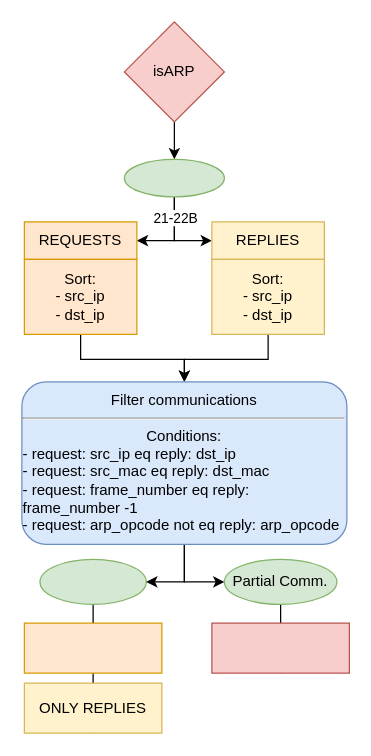
Image size: 371x756. Some labels were removed from this diagram. Here are the shapes that lost their labels. From the top down, the box of each, then its label:
(123, 158, 224, 197): Filter
(39, 558, 146, 604): Complete Comm.
(23, 622, 162, 673): ONLY REQUESTS
(211, 622, 349, 673): PAIR: REQUEST, REPLY
